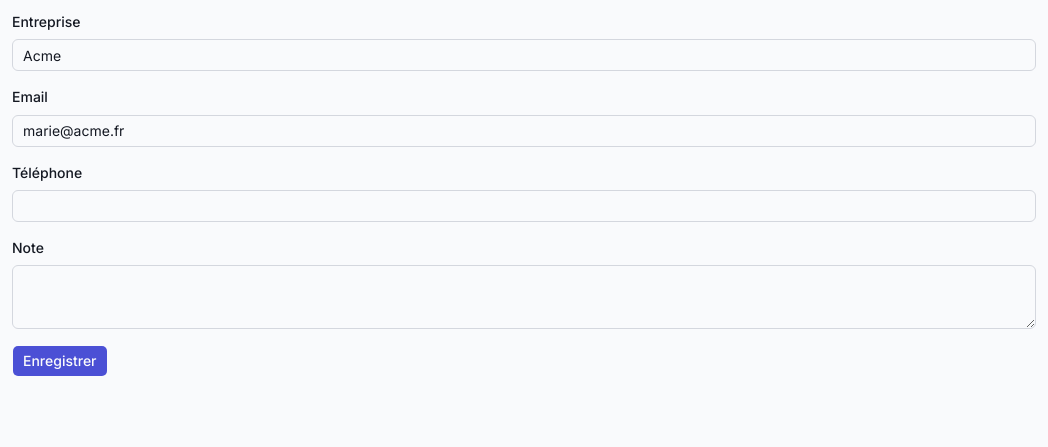
Test: ContactForm › affiche une erreur générale dans une Alert
Click the button "Enregistrer" at (60, 361), box [12,345,108,377]
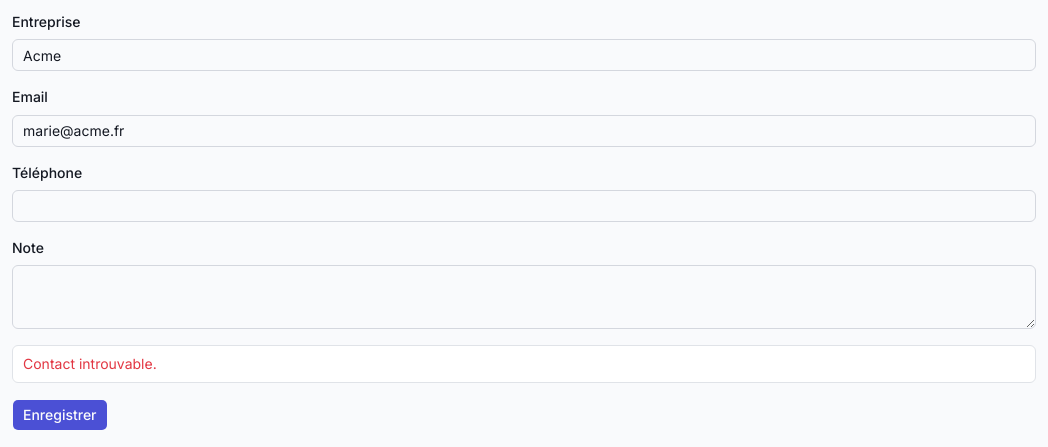
Now the message reads "Contact introuvable.", box [23,355,157,372]
